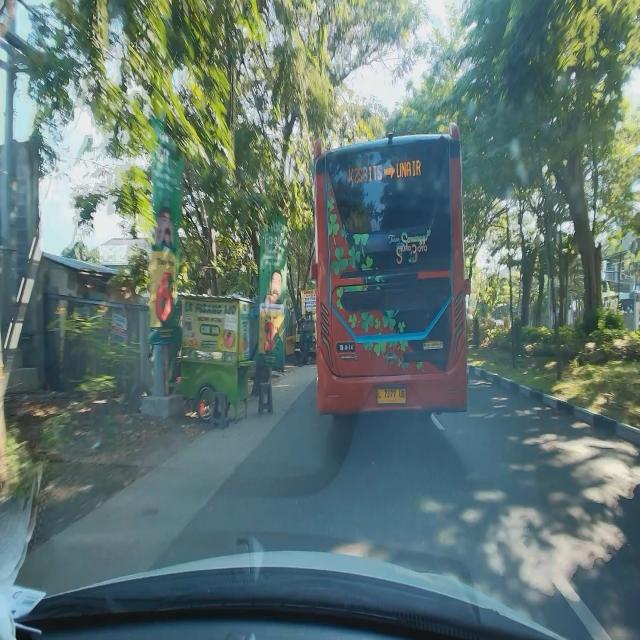bus: (308, 119, 470, 434)
license-plate: (377, 387, 407, 405)
